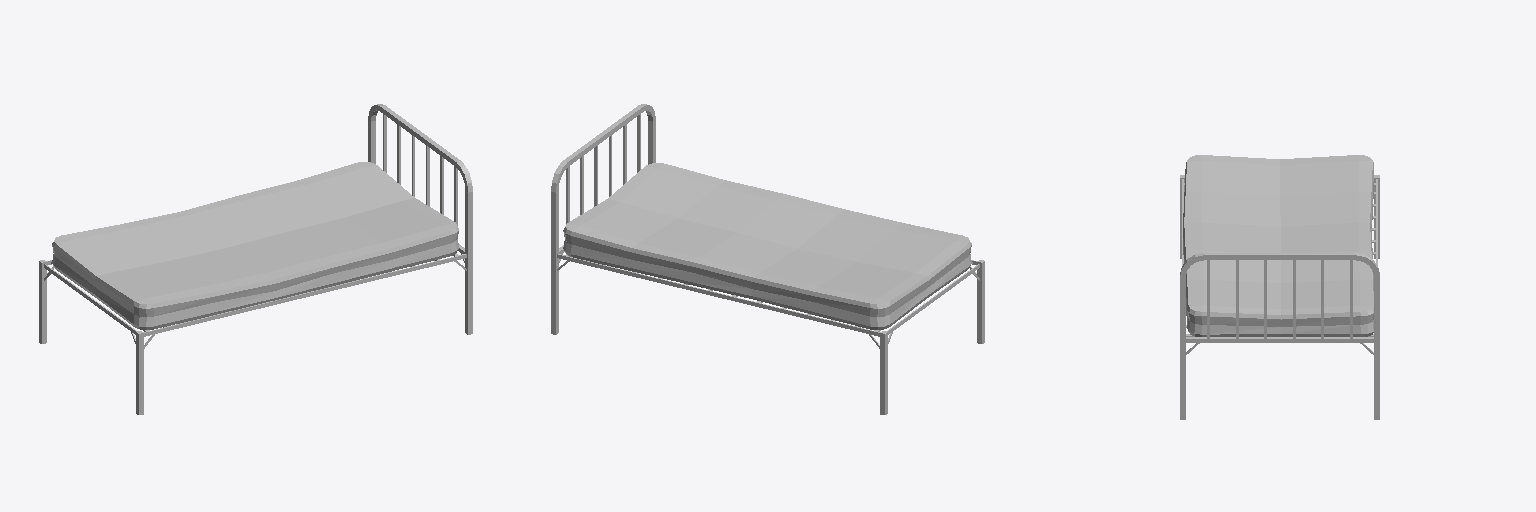
File: bed_1.obj
The picture shows the model from 3 angles: view 1: azimuth 30°, elevation 25°; view 2: azimuth 150°, elevation 25°; view 3: azimuth 270°, elevation 25°; orthographic projection.
Visible parts, largest first — view 1: bed_1; view 2: bed_1; view 3: bed_1.
Boxes of the visible parts, <box> form: bed_1: <box>39,104,472,414</box>; bed_1: <box>551,104,984,414</box>; bed_1: <box>1180,155,1379,419</box>.
Size of the model in its own units: 2.7 by 1.27 by 1.4.